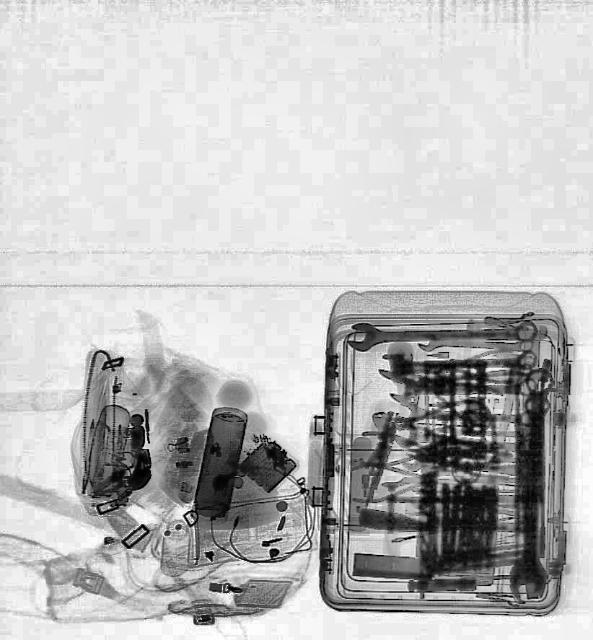Pliers: (354, 460, 442, 510), (358, 428, 437, 472)
Wrench: (509, 390, 557, 600), (348, 317, 536, 351), (377, 345, 538, 381)
